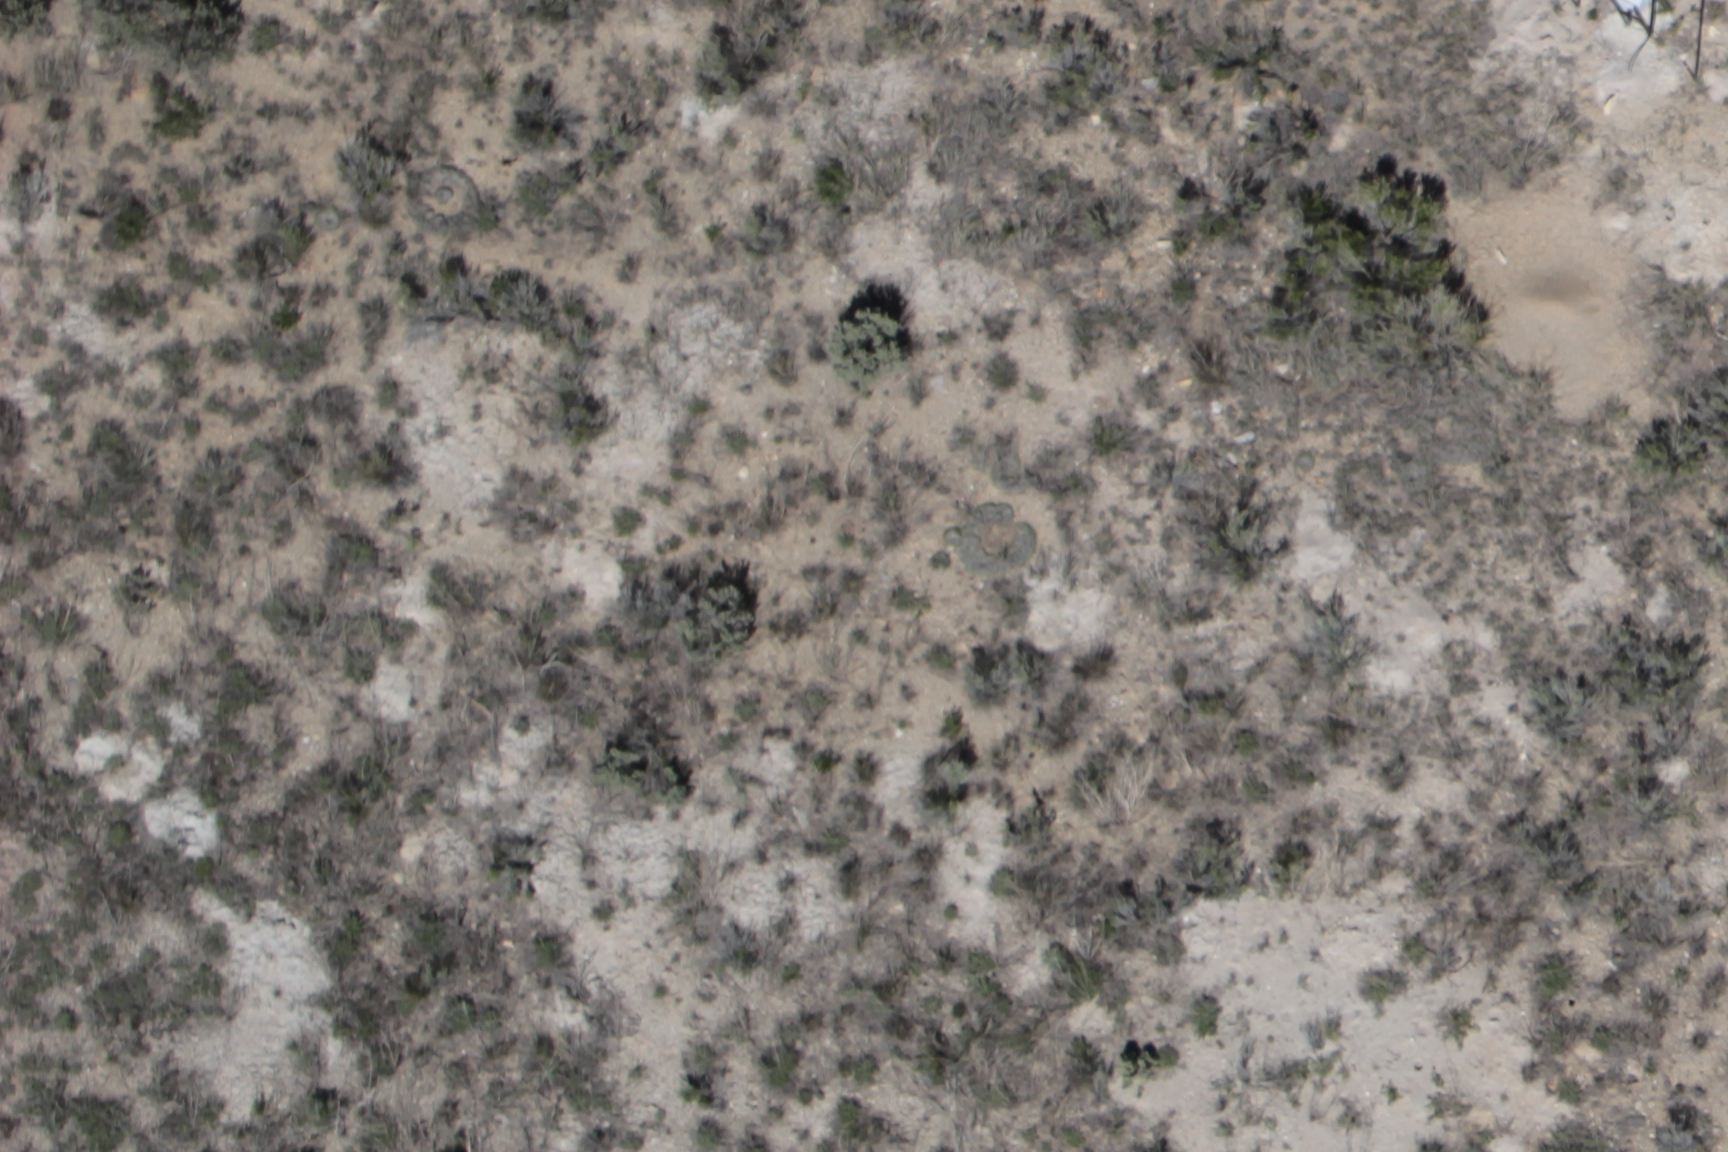burrow: (1489, 253, 1617, 368)
